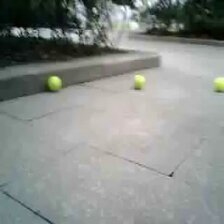tennis: (47, 76, 61, 89), (132, 74, 145, 88), (214, 76, 224, 92)
